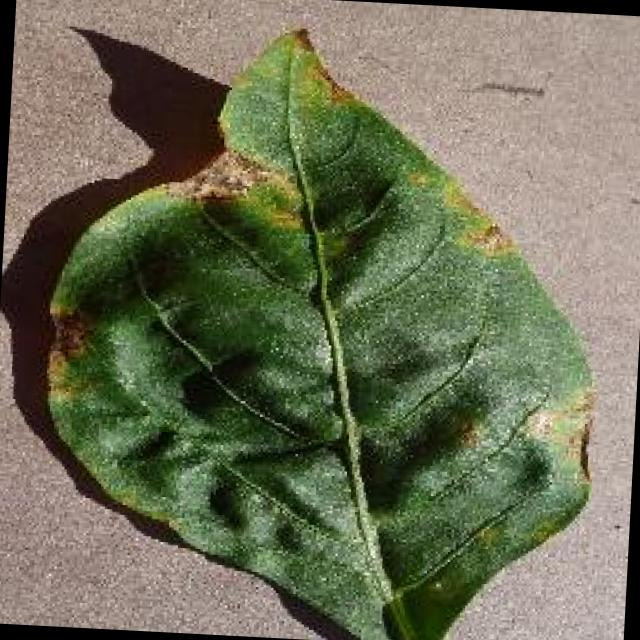Chilli_Bacterial_Spot: (24, 10, 620, 640), (210, 20, 363, 182), (198, 474, 252, 537), (461, 217, 516, 260), (48, 308, 90, 364), (468, 516, 508, 554), (448, 412, 483, 454), (402, 164, 431, 193)
